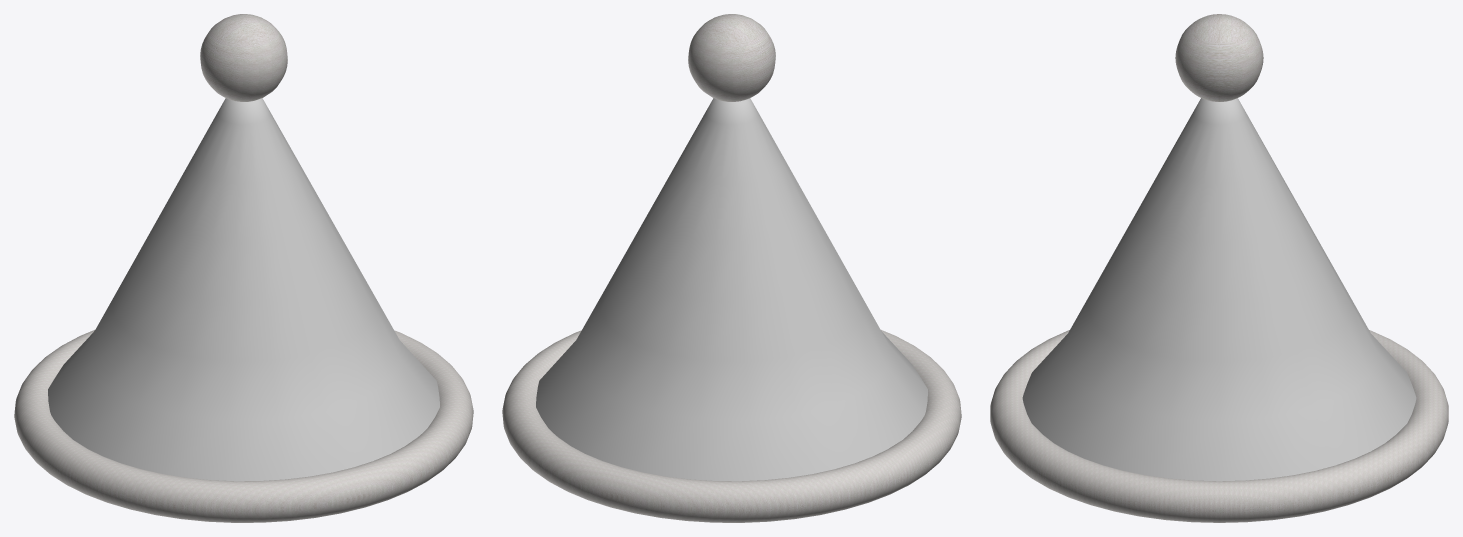
File: christmis_cap.fbx
The picture shows the model from 3 angles, left to right: view 1: azimuth 30°, elevation 25°; view 2: azimuth 150°, elevation 25°; view 3: azimuth 270°, elevation 25°; orthographic projection.
Visible parts, largest first — view 1: pCone1, pTorus1, pSphere1; view 2: pCone1, pTorus1, pSphere1; view 3: pCone1, pTorus1, pSphere1.
Part boxes in pixels (x1,y1,x2,y2): pCone1: [48, 98, 439, 481]; pTorus1: [14, 330, 473, 522]; pSphere1: [200, 14, 287, 101]; pCone1: [536, 98, 927, 481]; pTorus1: [502, 330, 961, 522]; pSphere1: [688, 14, 775, 101]; pCone1: [1022, 98, 1416, 481]; pTorus1: [990, 330, 1448, 522]; pSphere1: [1175, 14, 1263, 101].
Size of the model in its own units: 82.62 by 82.31 by 82.46.
